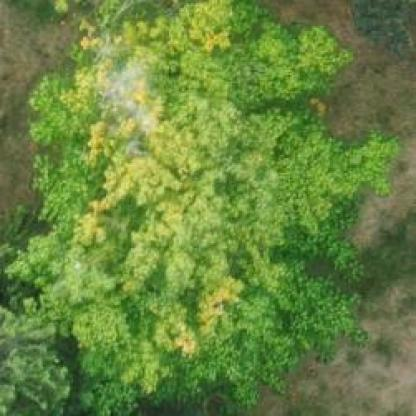Deciduous Tree: (4, 18, 400, 416)
